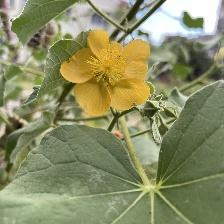indian mallow: (60, 31, 157, 120)
